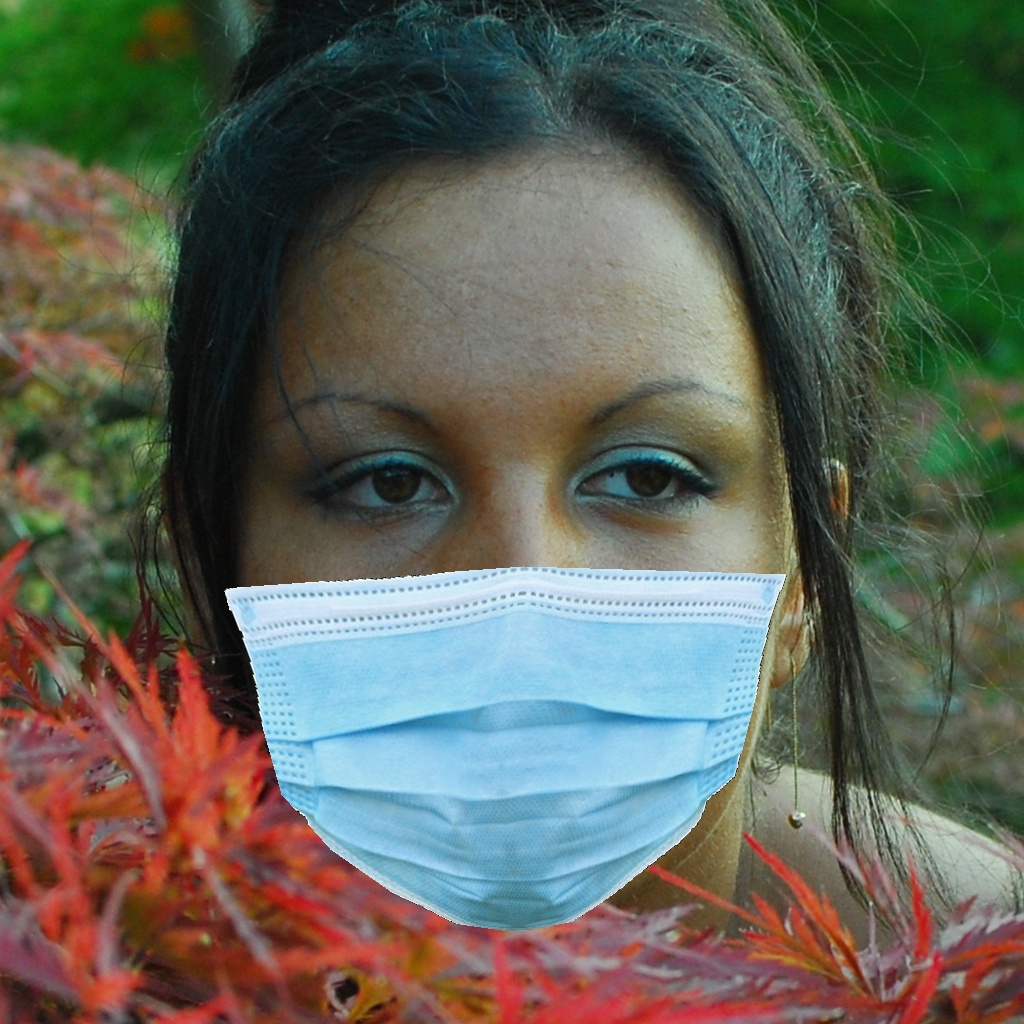Mask: (226, 356, 786, 930)
